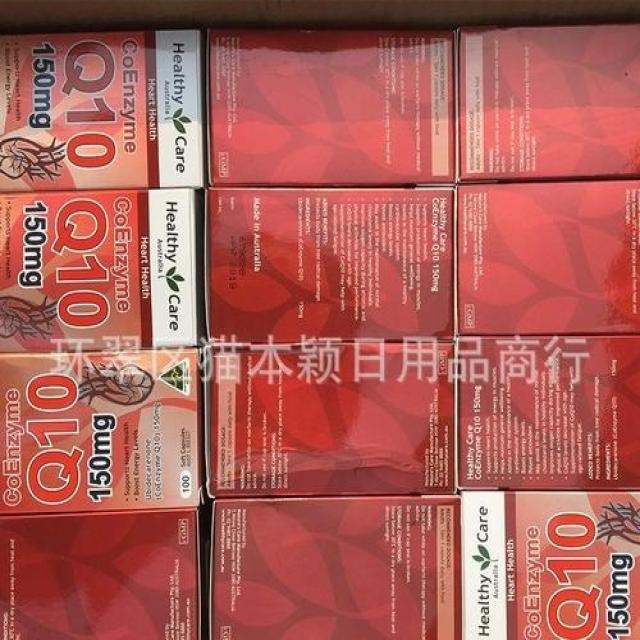box: (204, 339, 457, 498), (205, 184, 457, 343), (206, 30, 457, 186), (209, 492, 462, 640), (0, 346, 209, 513), (0, 188, 209, 353), (0, 30, 209, 193), (454, 23, 640, 183), (456, 333, 640, 492), (457, 179, 640, 338), (457, 489, 640, 640), (0, 508, 202, 640)
